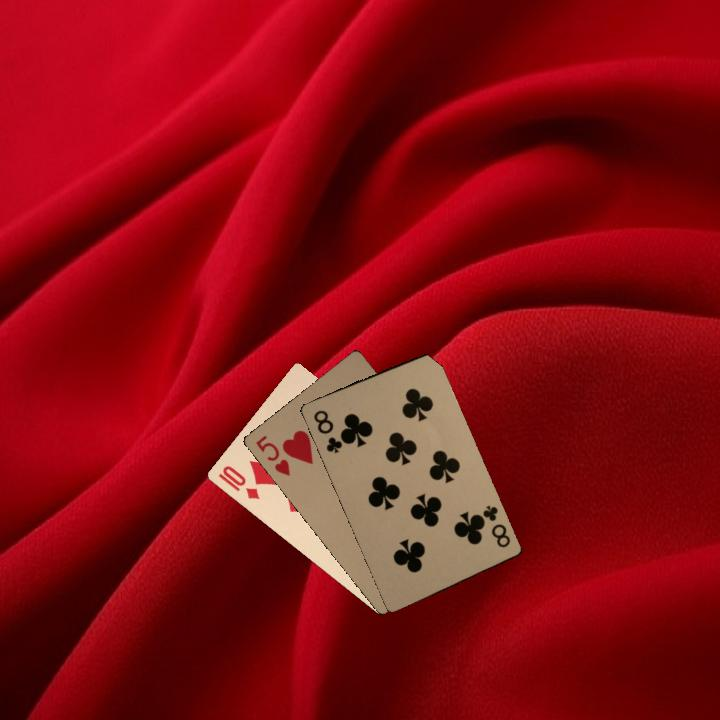10d: (214, 461, 262, 502)
5h: (251, 431, 293, 479)
8c: (473, 501, 513, 550), (310, 406, 345, 456)
